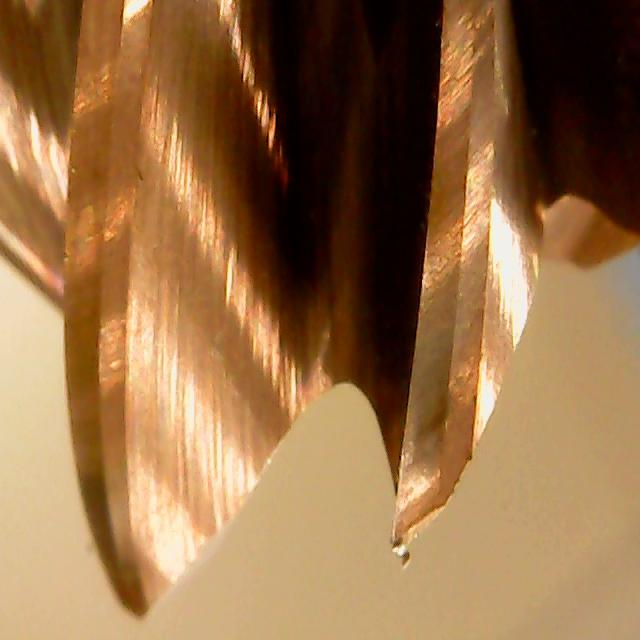Tool-wear-class-0: (377, 195, 504, 552)
